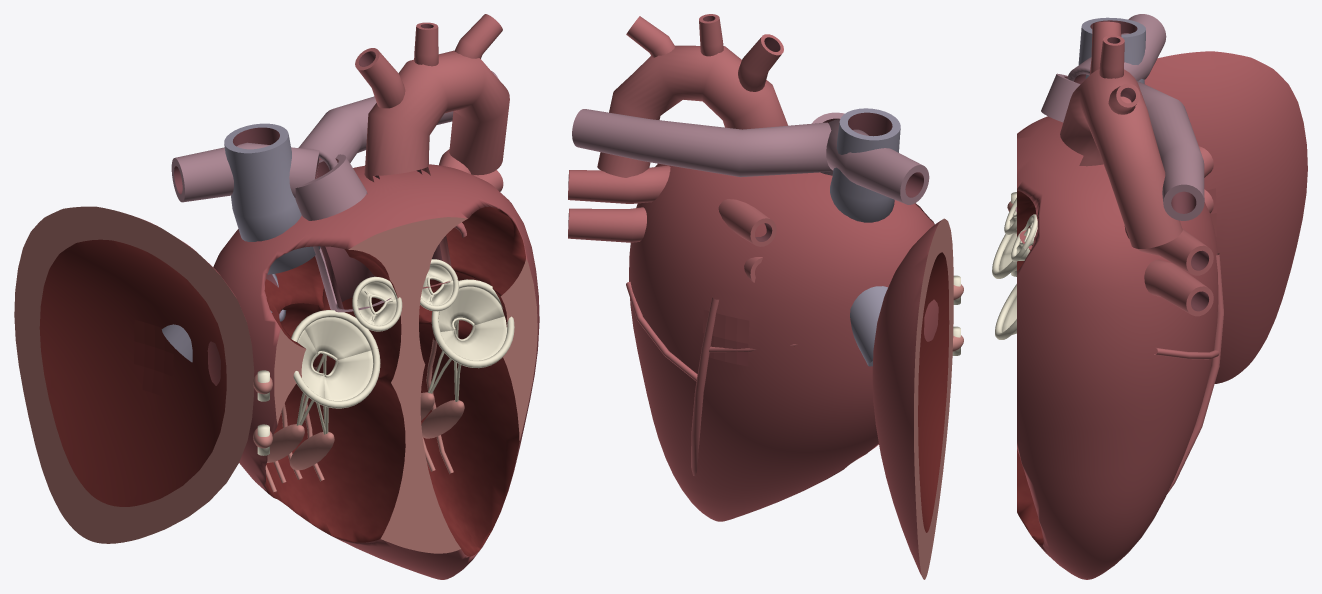
File: human_heart_cutaway.glb
3 views of the same model, side by side, from view 1: azimuth 30°, elevation 25°; view 2: azimuth 150°, elevation 25°; view 3: azimuth 270°, elevation 25° (orthographic). The views are drawn at different scales.
Parts seen in each view (by area): view 1: model; view 2: model; view 3: model.
Part boxes in pixels (box(x1,y1,x2,y2)): model: box(14, 14, 539, 579); model: box(568, 14, 963, 579); model: box(992, 14, 1307, 579).
Size of the model in its own units: 0.1193 by 0.145 by 0.0769.
Materials: 9 (1 with a texture image).
